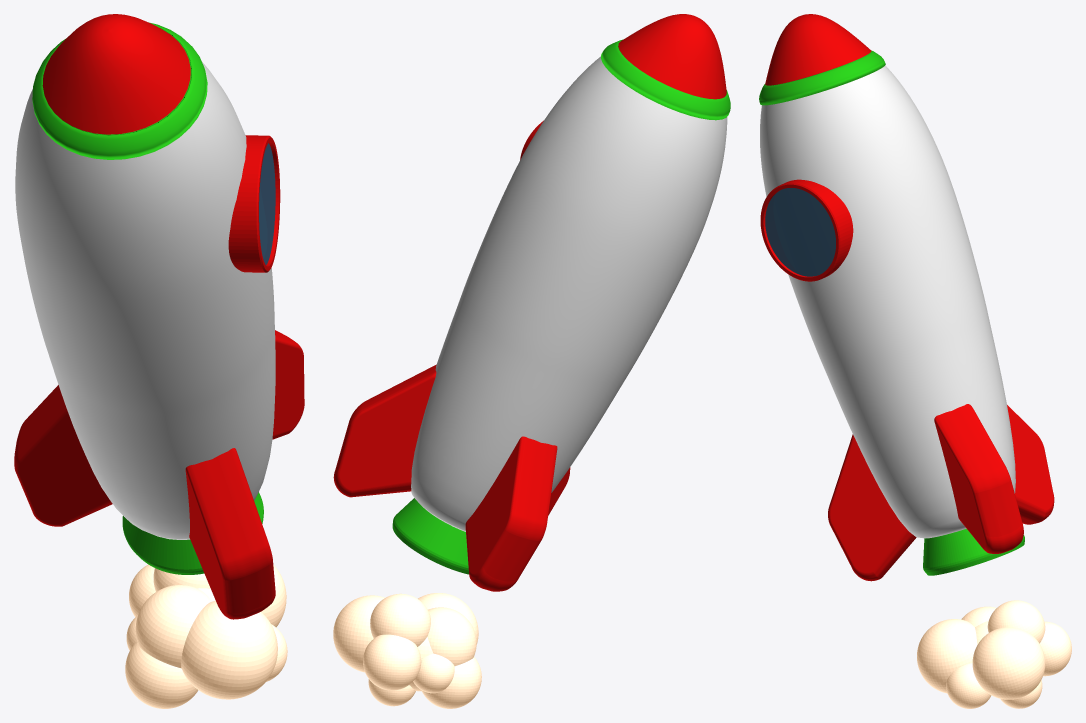
File: simple_rocket_ship_or_missile.glb
3 renders of one model, left to right at view 1: azimuth 30°, elevation 25°; view 2: azimuth 150°, elevation 25°; view 3: azimuth 270°, elevation 25°, orthographic. The views are drawn at different scales.
Parts seen in each view (by area): view 1: Cube.006_0, Sphere.004_1; view 2: Cube.006_0, Sphere.004_1; view 3: Cube.006_0, Sphere.004_1.
Part boxes in pixels (box(x1,y1,x2,y2)): Cube.006_0: box(14, 14, 304, 619); Sphere.004_1: box(125, 564, 287, 708); Cube.006_0: box(333, 14, 730, 591); Sphere.004_1: box(333, 593, 481, 708); Cube.006_0: box(759, 14, 1054, 581); Sphere.004_1: box(917, 600, 1071, 708).
Size of the model in its own units: 10.67 by 22.57 by 10.48.
